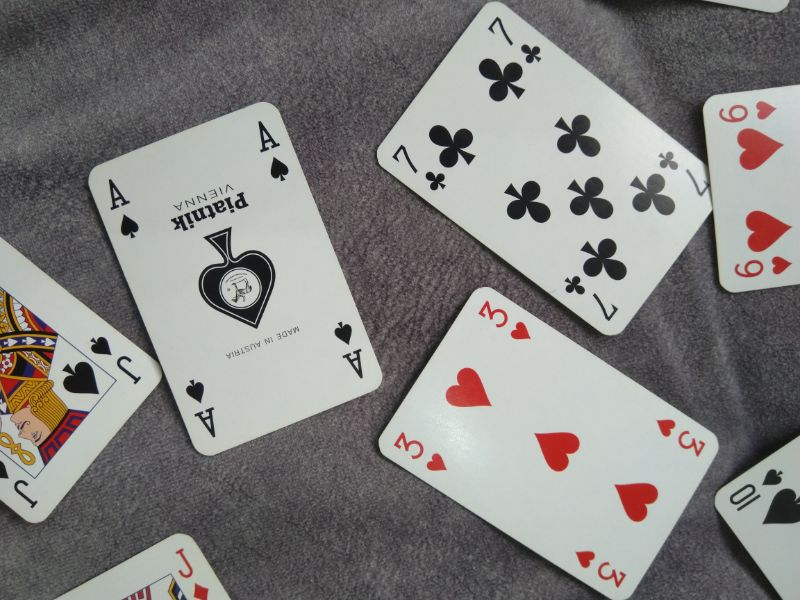3h: (574, 543, 627, 591), (393, 429, 449, 474), (478, 297, 531, 343), (654, 416, 706, 460)
7c: (485, 13, 546, 66), (560, 271, 620, 322), (389, 142, 448, 193), (656, 147, 711, 197)
As: (179, 376, 222, 442), (103, 174, 143, 242), (254, 118, 291, 185), (330, 319, 368, 381)
Jd: (173, 545, 210, 600)
Js: (85, 335, 144, 387)
Ts: (728, 466, 785, 514)
